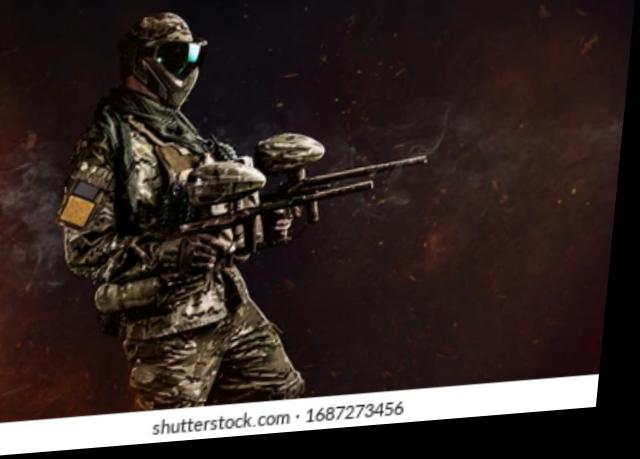other: (48, 5, 339, 421)
